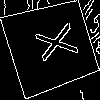X: (25, 21, 79, 67)
